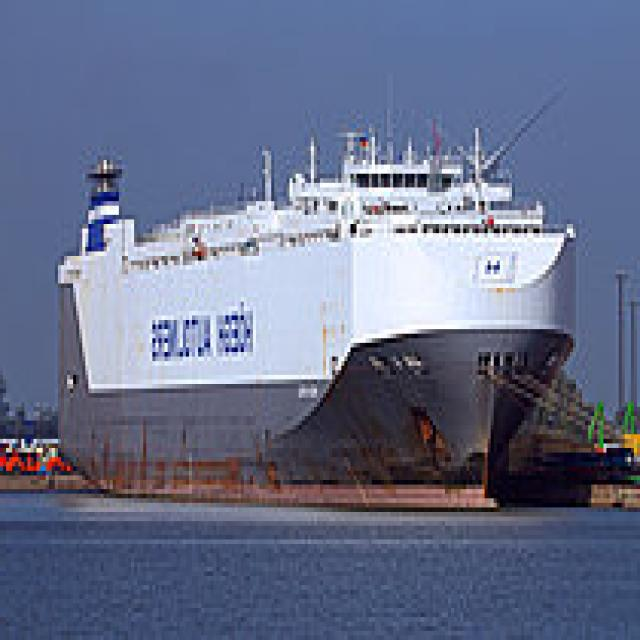Carrier: (58, 114, 588, 512)
